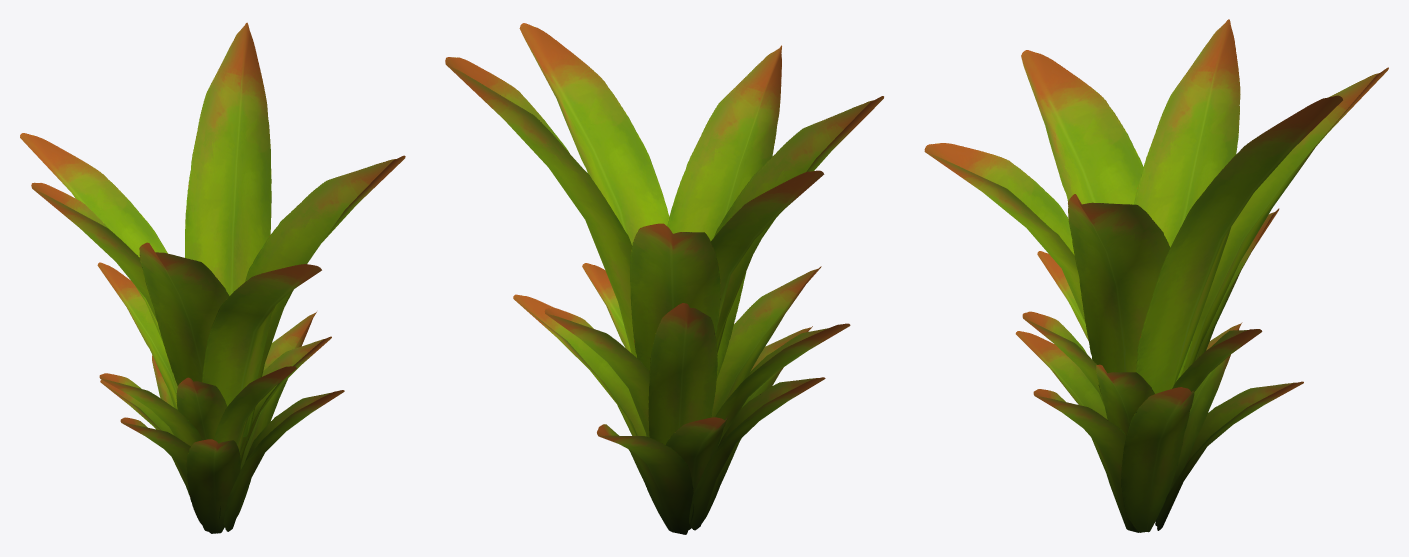
File: rainforestBush.gltf
3 renders of one model, left to right at view 1: azimuth 30°, elevation 25°; view 2: azimuth 150°, elevation 25°; view 3: azimuth 270°, elevation 25°, orthographic. The views are drawn at different scales.
Parts seen in each view (by area): view 1: Plant_1_Big; view 2: Plant_1_Big; view 3: Plant_1_Big.
Part boxes in pixels (bbox=[...]): Plant_1_Big: bbox=[20, 22, 405, 533]; Plant_1_Big: bbox=[445, 23, 883, 534]; Plant_1_Big: bbox=[924, 19, 1388, 532].
Size of the model in its own units: 1.81 by 2.35 by 1.95.
Materials: 1 (1 with a texture image).
